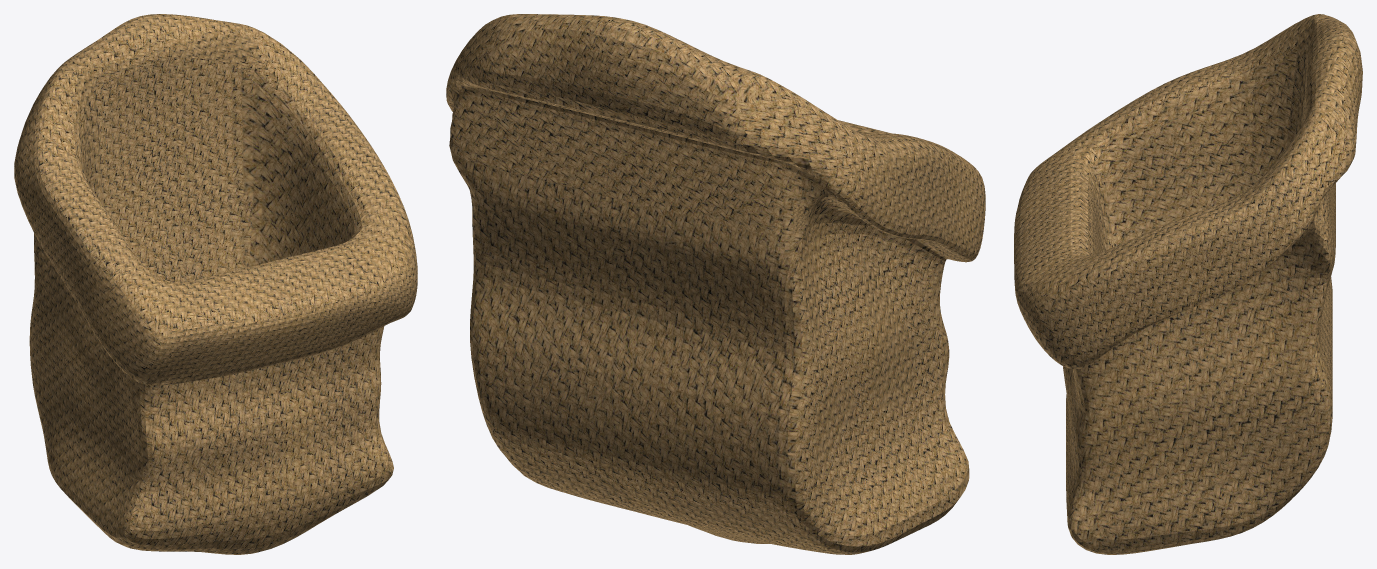
Rendered from bolsa de semillas.fbx.
The picture shows the model from 3 angles, left to right: view 1: azimuth 30°, elevation 25°; view 2: azimuth 150°, elevation 25°; view 3: azimuth 270°, elevation 25°; orthographic projection. The views are drawn at different scales.
Parts seen in each view (by area): view 1: Cube; view 2: Cube; view 3: Cube.
Part boxes in pixels (x1,y1,x2,y2): Cube: [14, 14, 417, 554]; Cube: [446, 14, 985, 554]; Cube: [1014, 14, 1362, 554].
Size of the model in its own units: 330 by 465 by 293.
